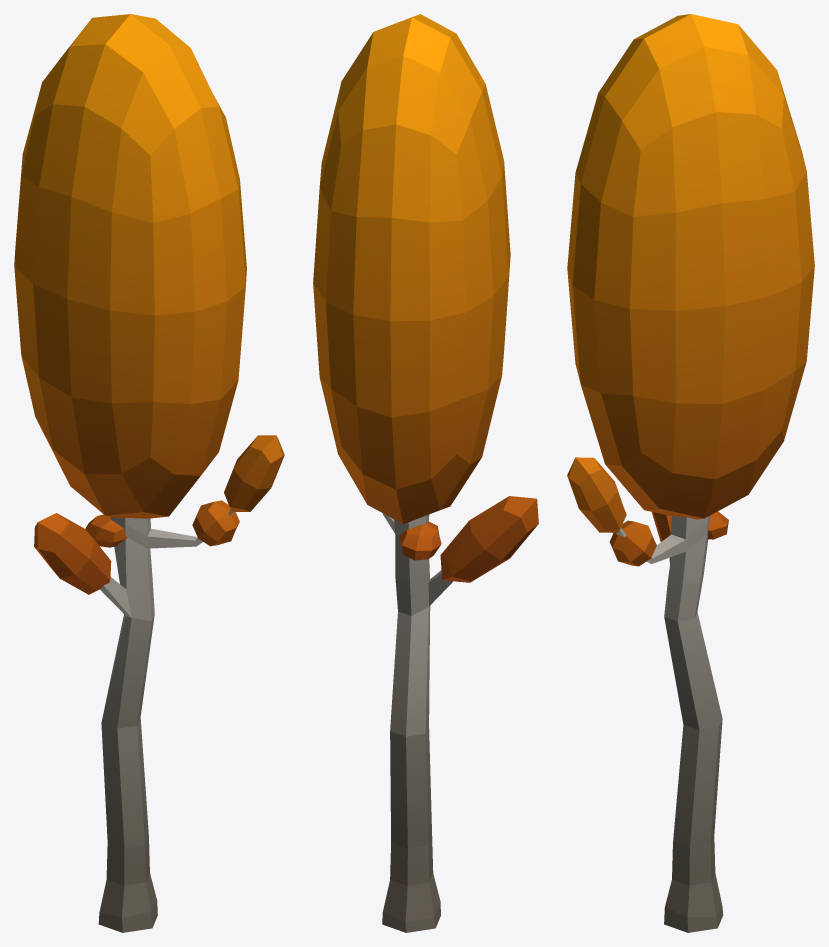
Rendered from Tree_3.fbx.
3 renders of one model, left to right at view 1: azimuth 30°, elevation 25°; view 2: azimuth 150°, elevation 25°; view 3: azimuth 270°, elevation 25°, orthographic.
Parts seen in each view (by area): view 1: Tree_3; view 2: Tree_3; view 3: Tree_3.
Boxes of the visible parts, <box> form: Tree_3: <box>14,14,284,932</box>; Tree_3: <box>313,14,538,932</box>; Tree_3: <box>567,14,814,932</box>.
Size of the model in its own units: 2.4 by 2.47 by 9.95.
